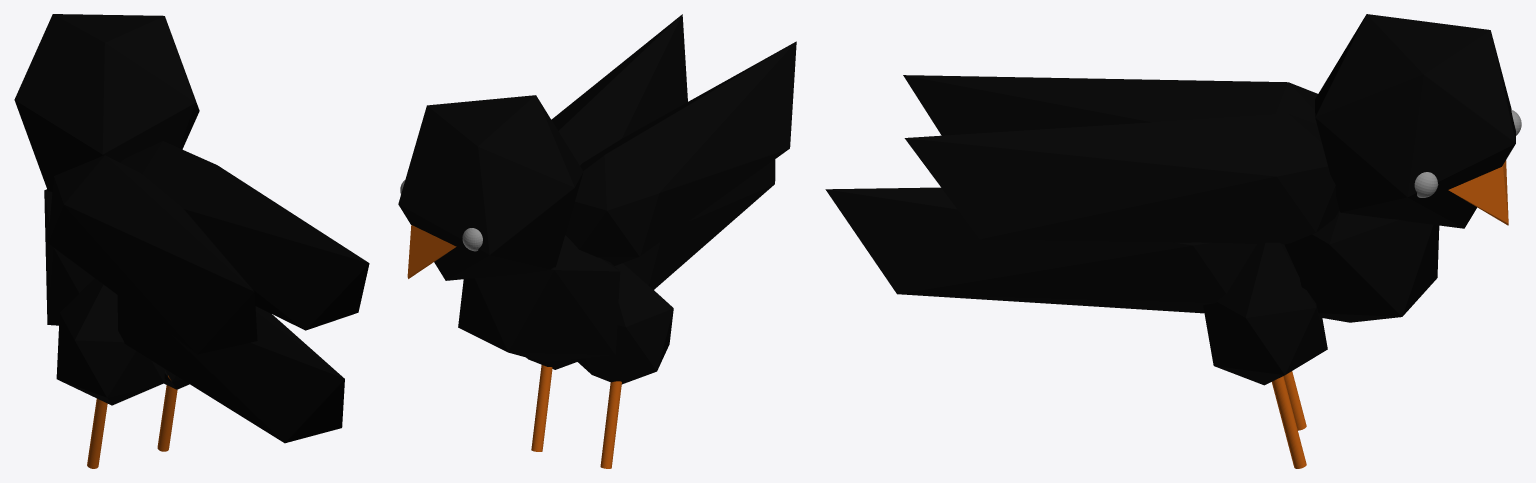
The model's file is mascot_test3.obj.
3 views of the same model, side by side, from view 1: azimuth 30°, elevation 25°; view 2: azimuth 150°, elevation 25°; view 3: azimuth 270°, elevation 25° (orthographic). The views are drawn at different scales.
Parts seen in each view (by area): view 1: Icosphere.007_Material, Cylinder.001_Material.001, Cylinder.002_Material.001; view 2: Icosphere.007_Material, Icosphere.001_Material.001, Cylinder.001_Material.001, Cylinder.002_Material.001; view 3: Icosphere.007_Material, Icosphere.001_Material.001, Cylinder.002_Material.001.
Part boxes in pixels (x1,y1,x2,y2): Icosphere.007_Material: (14,14,369,443); Cylinder.001_Material.001: (87,398,107,468); Cylinder.002_Material.001: (157,375,177,451); Icosphere.007_Material: (398,14,796,384); Icosphere.001_Material.001: (407,225,456,278); Cylinder.001_Material.001: (600,381,621,468); Cylinder.002_Material.001: (531,365,552,451); Icosphere.007_Material: (825,14,1515,385); Icosphere.001_Material.001: (1448,160,1508,225); Cylinder.002_Material.001: (1272,376,1306,468).
Bounding box in the file's own units: 2.57 × 4.84 × 6.98.
